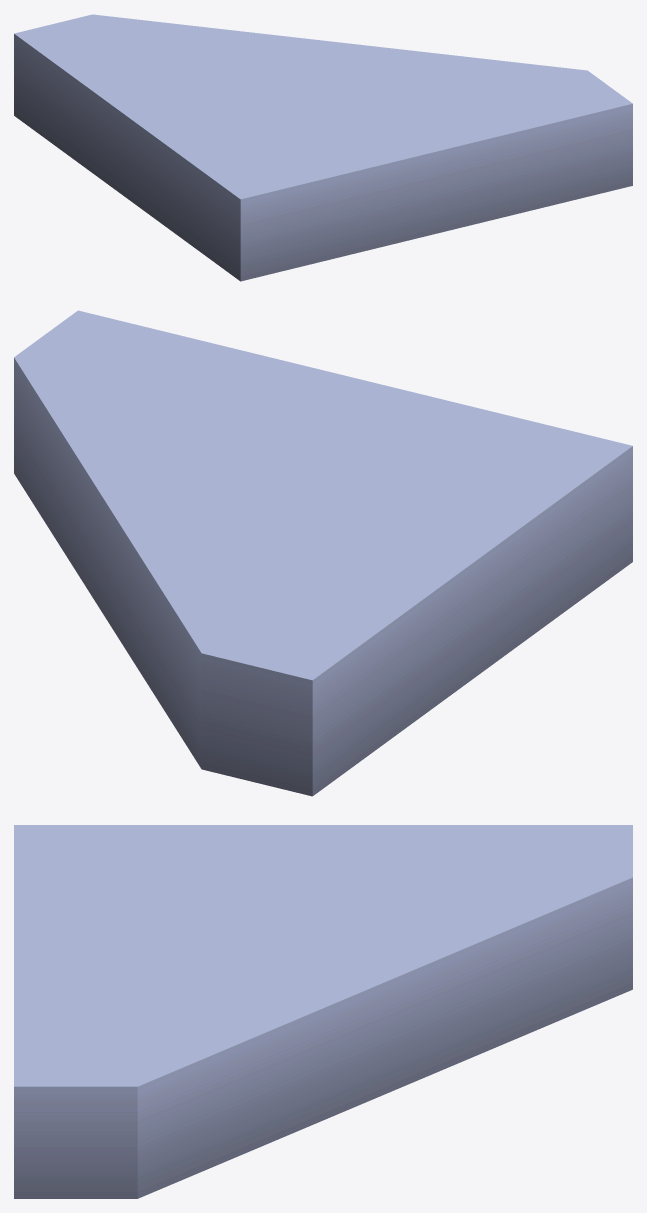
File: floor-thick-corner-diagonal.glb
The picture shows the model from 3 angles, top to bottom: view 1: azimuth 30°, elevation 25°; view 2: azimuth 150°, elevation 25°; view 3: azimuth 270°, elevation 25°; orthographic projection. The views are drawn at different scales.
Visible parts, largest first — view 1: floor-thick-corner-diagonal; view 2: floor-thick-corner-diagonal; view 3: floor-thick-corner-diagonal.
Boxes of the visible parts, <box> form: floor-thick-corner-diagonal: <box>14,14,632,281</box>; floor-thick-corner-diagonal: <box>14,310,632,796</box>; floor-thick-corner-diagonal: <box>14,825,632,1198</box>.
Bounding box in the file's own units: 1 × 0.2 × 1.
1 material, 1 textured.
